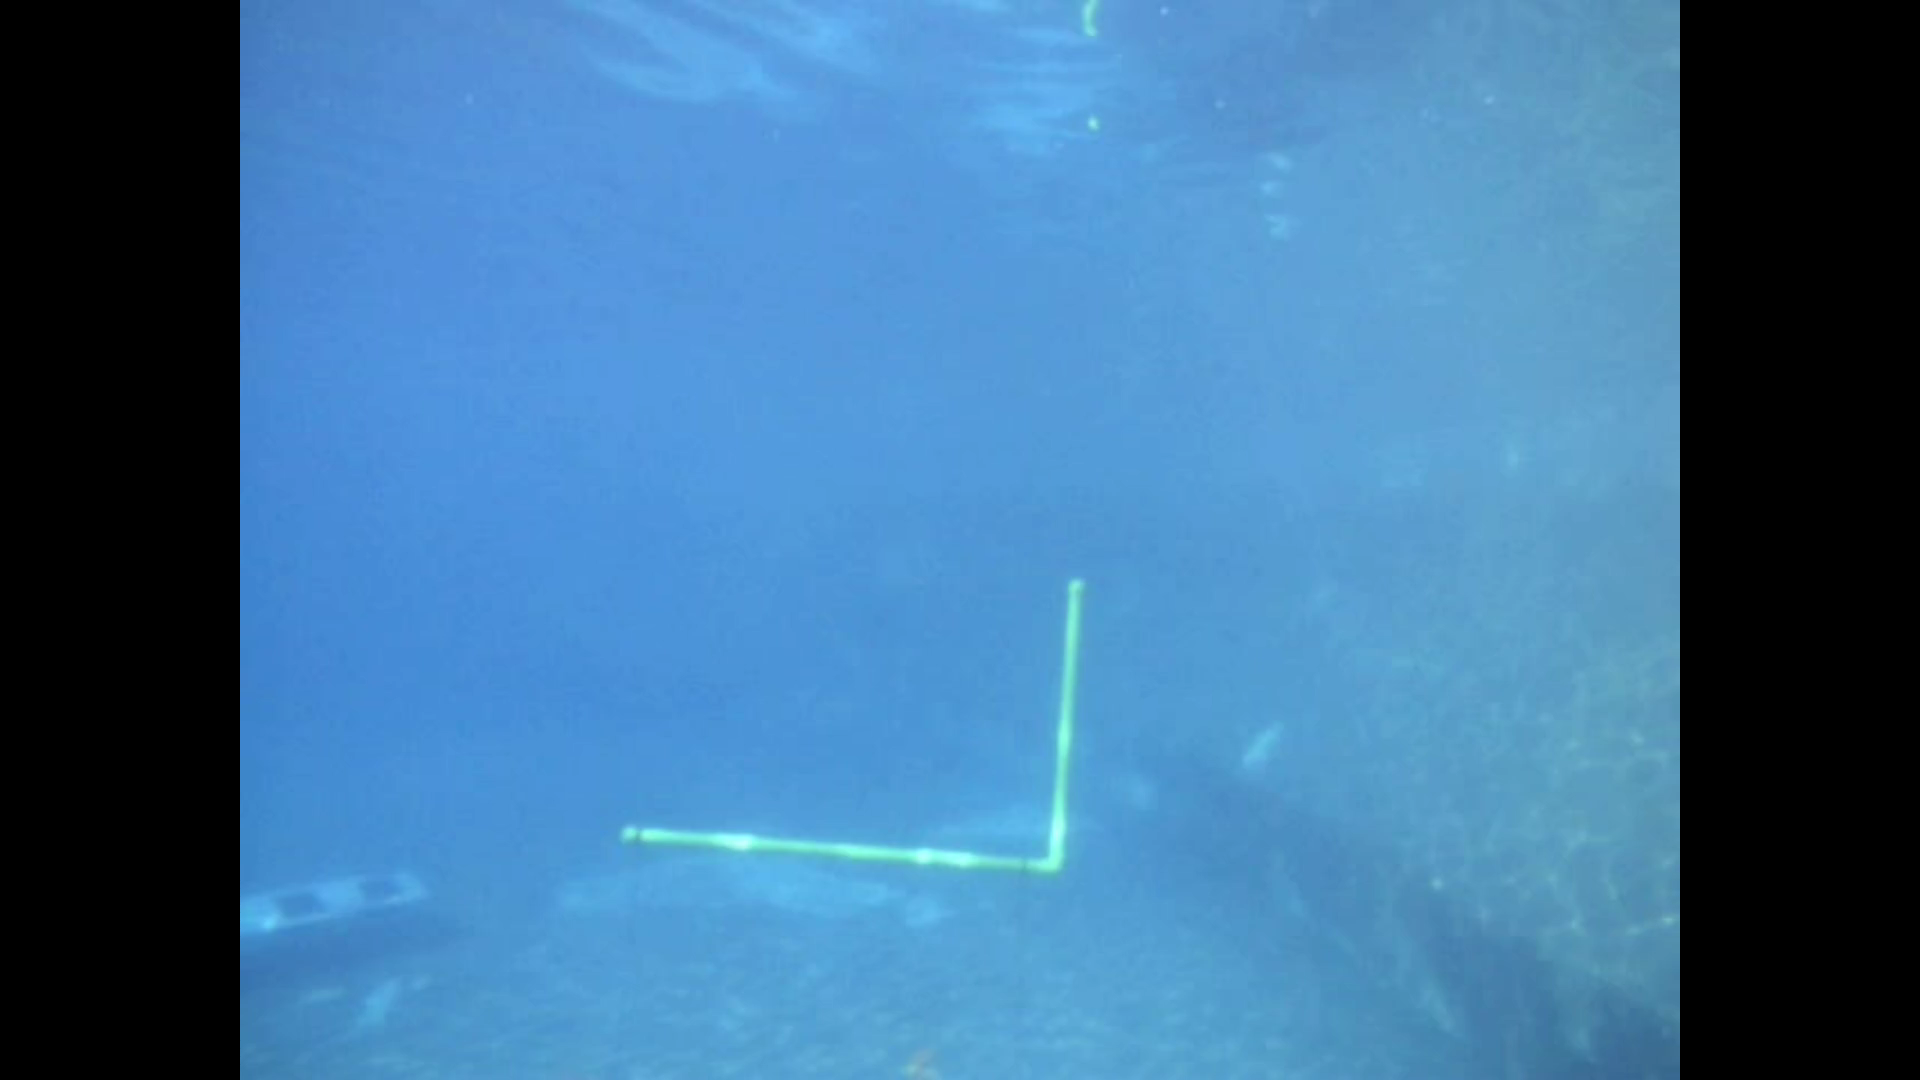gate: (616, 575, 1088, 877)
